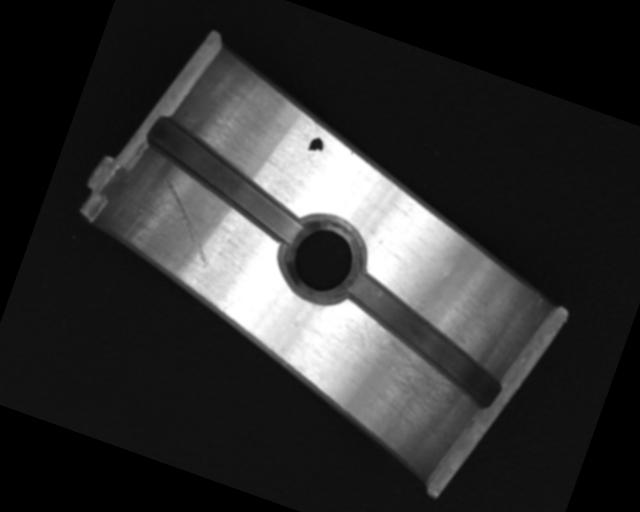blot: (304, 134, 326, 160)
gap: (325, 267, 520, 411), (127, 112, 319, 249)
hole: (271, 203, 375, 313)
nick: (141, 178, 230, 269)
scratch: (317, 311, 485, 445)
